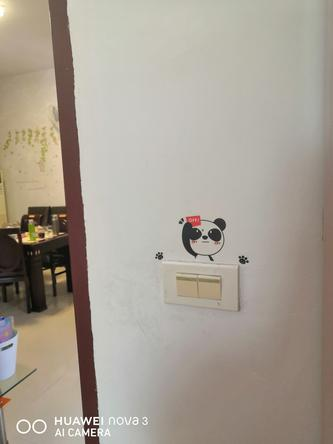switch: (198, 272, 222, 301), (173, 271, 198, 298)
